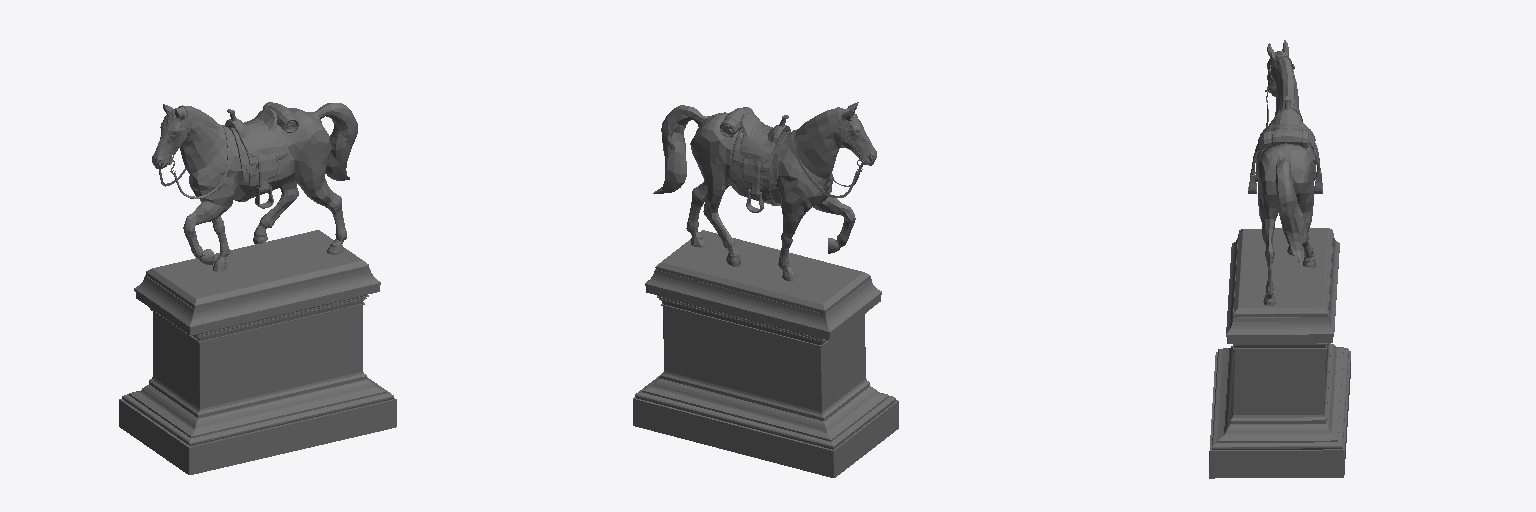
3 views of the same model, side by side, from view 1: azimuth 30°, elevation 25°; view 2: azimuth 150°, elevation 25°; view 3: azimuth 270°, elevation 25° (orthographic).
Parts seen in each view (by area): view 1: DrawCall_1, DrawCall_0; view 2: DrawCall_1, DrawCall_0; view 3: DrawCall_1, DrawCall_0.
Boxes of the visible parts, x1=… form: DrawCall_1: x1=119, y1=268, x2=396, y2=474; DrawCall_0: x1=146, y1=102, x2=368, y2=308; DrawCall_1: x1=633, y1=269, x2=898, y2=477; DrawCall_0: x1=653, y1=102, x2=876, y2=313; DrawCall_1: x1=1209, y1=233, x2=1350, y2=478; DrawCall_0: x1=1233, y1=40, x2=1332, y2=317.
Bounding box in the file's own units: 0.5355 × 0.8346 × 0.3121.